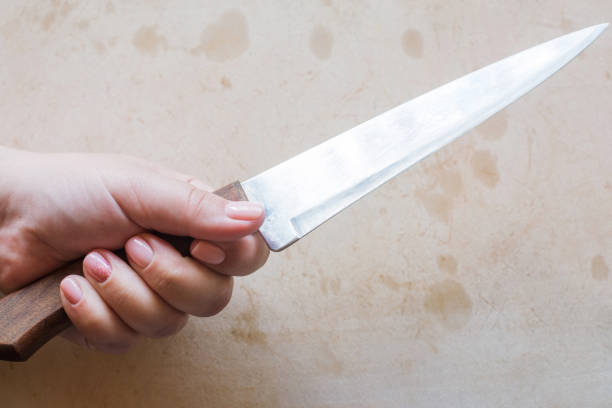knife: (210, 20, 610, 253)
